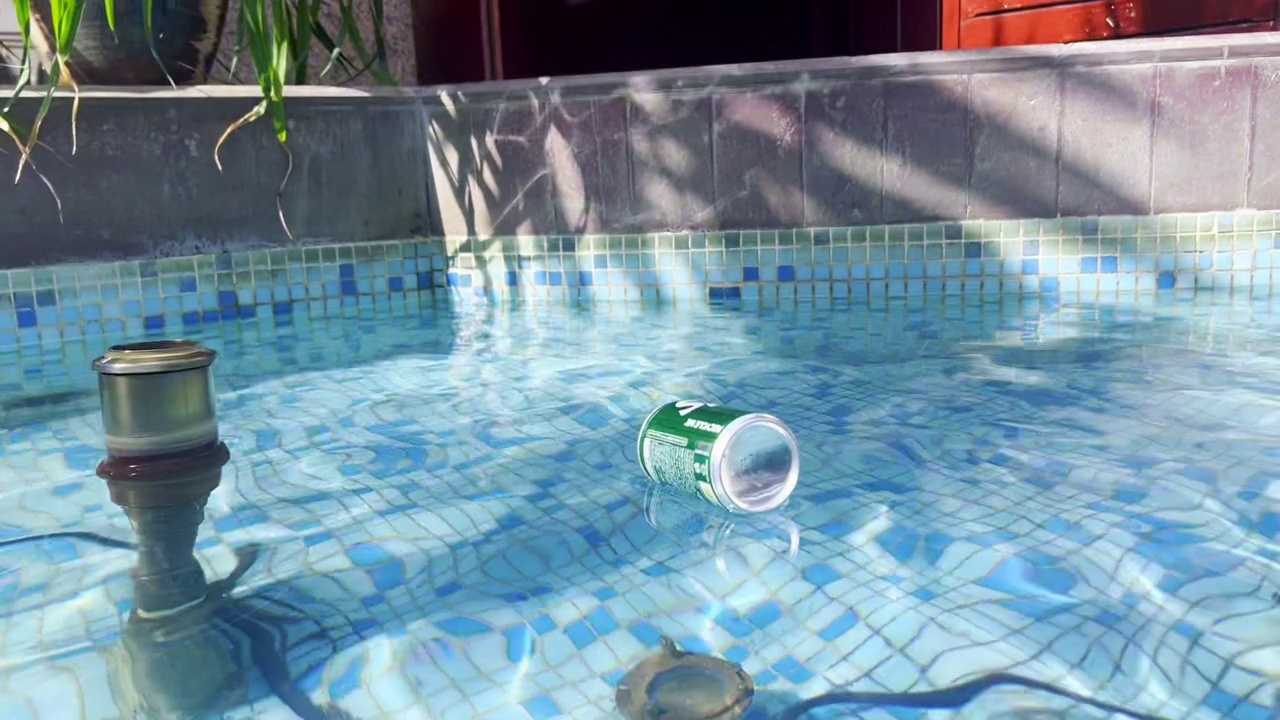debris: (620, 385, 805, 519)
